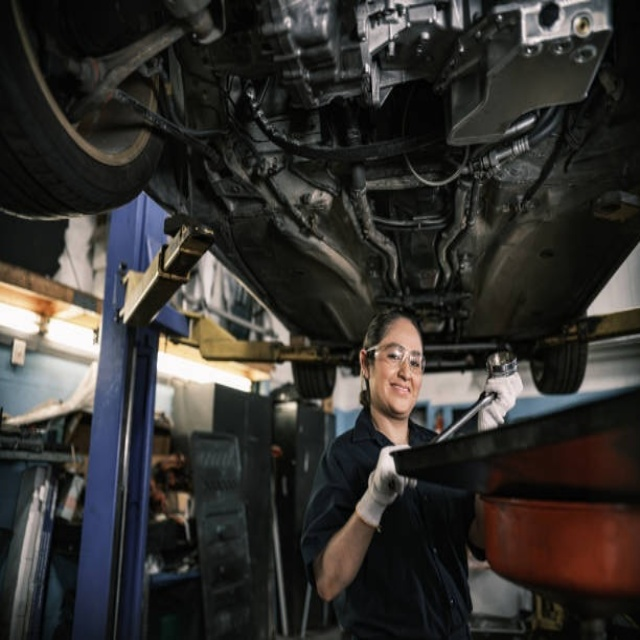Gafas: (366, 345, 427, 377)
Guantes: (351, 438, 420, 533), (475, 364, 523, 424)
Sin_mascara: (384, 376, 413, 409)
